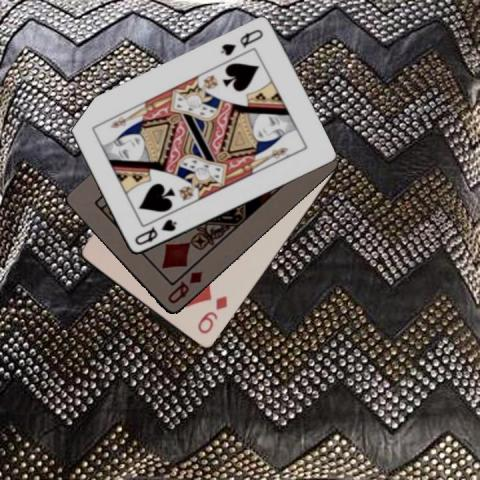9d: (194, 293, 229, 336)
Qd: (164, 269, 205, 306)
Qs: (218, 27, 265, 58), (131, 217, 178, 247)
